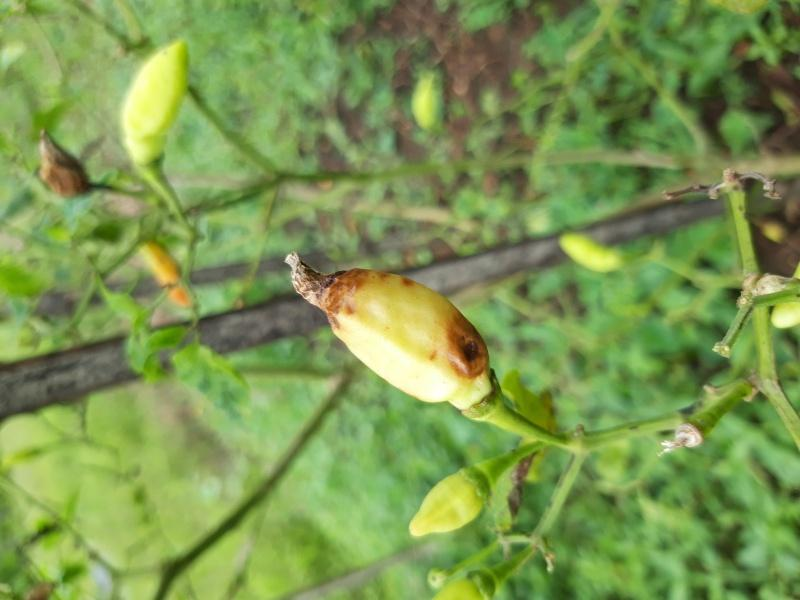antraknosa: (289, 250, 494, 407), (35, 127, 88, 194)
cabai_normal: (119, 40, 191, 144), (408, 475, 480, 536)
